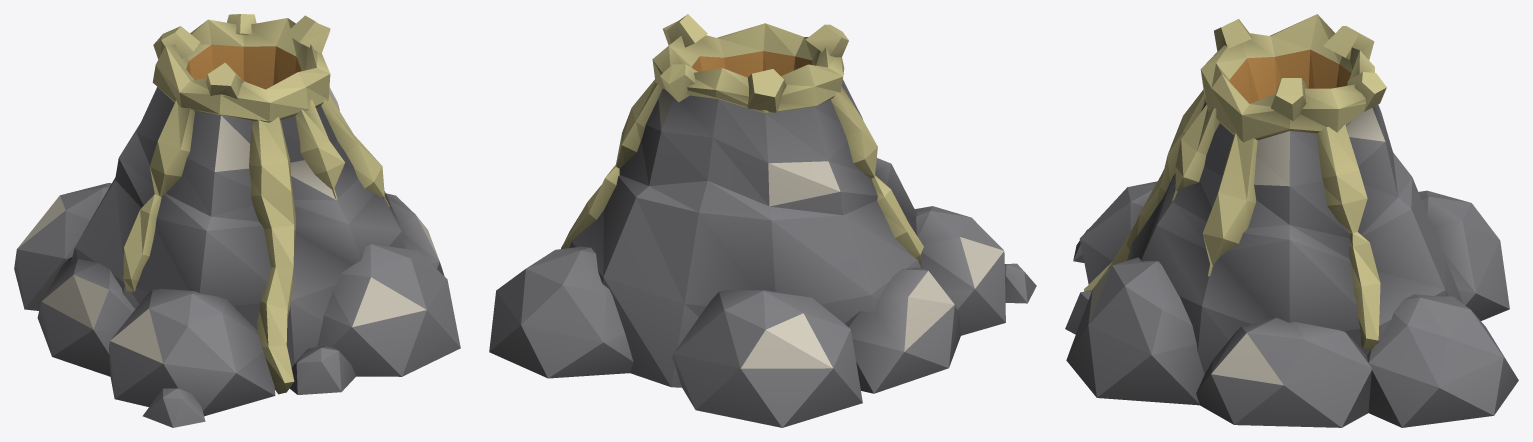
The model's file is fumarole.glb.
3 renders of one model, left to right at view 1: azimuth 30°, elevation 25°; view 2: azimuth 150°, elevation 25°; view 3: azimuth 270°, elevation 25°, orthographic. The views are drawn at different scales.
Visible parts, largest first — view 1: fumarole; view 2: fumarole; view 3: fumarole.
Boxes of the visible parts, x1,y1,x2,y2 form: fumarole: [14, 14, 460, 427]; fumarole: [489, 14, 1036, 427]; fumarole: [1065, 14, 1518, 427].
Bounding box in the file's own units: 2.7 × 1.92 × 2.7.
